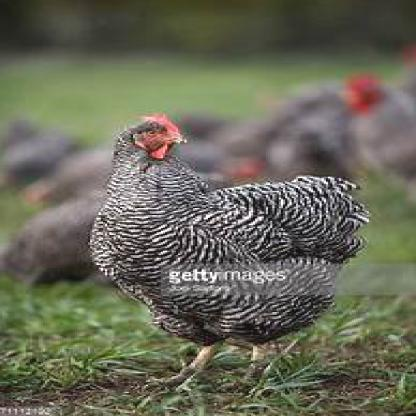chicken: (88, 114, 373, 385)
